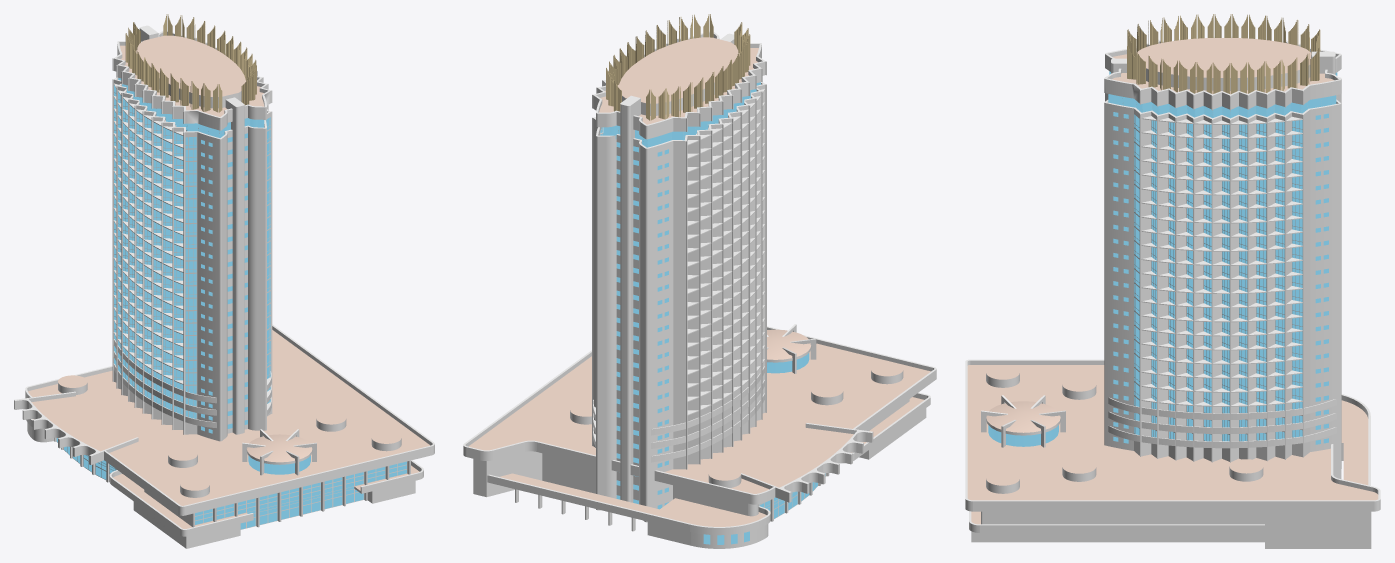
File: gost-kazakh.glb
3 views of the same model, side by side, from view 1: azimuth 30°, elevation 25°; view 2: azimuth 150°, elevation 25°; view 3: azimuth 270°, elevation 25° (orthographic). The views are drawn at different scales.
Visible parts, largest first — view 1: 1172723, 1182863, 667172, Компонент#7, Компонент#1.009, Компонент#7.001, Компонент#1.008, Компонент#1.007, 1005980, Компонент#1.006, Компонент#1.005, Компонент#1.004 (+42 smaller); view 2: 1172723, 1182863, 667172, Компонент#7, Компонент#7.001, Компонент#2.014, Компонент#2.016, Компонент#2.012, Компонент#2.018, Компонент#2.015, Компонент#2.017, Компонент#2.019 (+26 smaller); view 3: 1172723, 1182863, Компонент#7.001, Компонент#7, Компонент#5.006, Компонент#1.011, Компонент#1.018, Компонент#1.015, 1005980, Компонент#1.010, Компонент#1.017, Компонент#2.043 (+59 smaller).
Boxes of the visible parts, left/top/right/bottom form: 1172723: left=14, top=324, right=434, bottom=515; 1182863: left=26, top=419, right=423, bottom=548; 667172: left=139, top=25, right=244, bottom=434; Компонент#7: left=112, top=38, right=232, bottom=130; Компонент#1.009: left=185, top=136, right=197, bottom=419; Компонент#7.001: left=154, top=31, right=272, bottom=119; Компонент#1.008: left=173, top=132, right=183, bottom=417; Компонент#1.007: left=163, top=127, right=172, bottom=410; 1005980: left=246, top=434, right=312, bottom=474; Компонент#1.006: left=153, top=122, right=161, bottom=405; Компонент#1.005: left=144, top=116, right=151, bottom=399; Компонент#1.004: left=136, top=111, right=142, bottom=393; 1172723: left=463, top=326, right=936, bottom=504; 1182863: left=473, top=392, right=930, bottom=548; 667172: left=620, top=33, right=734, bottom=502; Компонент#7: left=633, top=40, right=766, bottom=139; Компонент#7.001: left=592, top=31, right=720, bottom=127; Компонент#2.014: left=633, top=277, right=766, bottom=355; Компонент#2.016: left=633, top=304, right=766, bottom=382; Компонент#2.012: left=633, top=250, right=766, bottom=328; Компонент#2.018: left=633, top=331, right=766, bottom=409; Компонент#2.015: left=633, top=291, right=766, bottom=368; Компонент#2.017: left=633, top=318, right=766, bottom=395; Компонент#2.019: left=633, top=345, right=766, bottom=422; 1172723: left=965, top=359, right=1380, bottom=511; 1182863: left=969, top=394, right=1371, bottom=548; Компонент#7.001: left=1104, top=57, right=1341, bottom=110; Компонент#7: left=1105, top=36, right=1341, bottom=72; Компонент#5.006: left=1104, top=431, right=1341, bottom=462; Компонент#1.011: left=1292, top=120, right=1302, bottom=437; Компонент#1.018: left=1256, top=123, right=1266, bottom=440; Компонент#1.015: left=1275, top=122, right=1284, bottom=439; 1005980: left=986, top=401, right=1060, bottom=446; Компонент#1.010: left=1239, top=124, right=1247, bottom=441; Компонент#1.017: left=1203, top=124, right=1211, bottom=441; Компонент#2.043: left=1104, top=149, right=1341, bottom=180.
Bounding box in the file's own units: 77.36 × 103 × 88.2.
